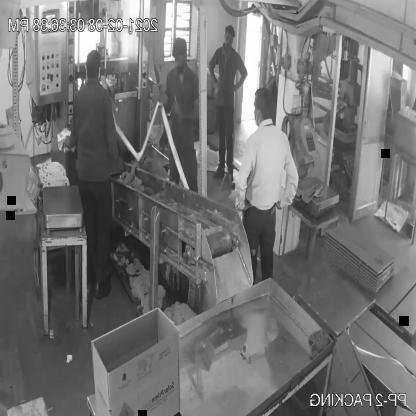no_glove: (232, 142, 257, 218), (276, 148, 300, 216), (176, 91, 202, 126), (107, 123, 122, 173), (232, 60, 248, 98), (208, 47, 218, 90)
